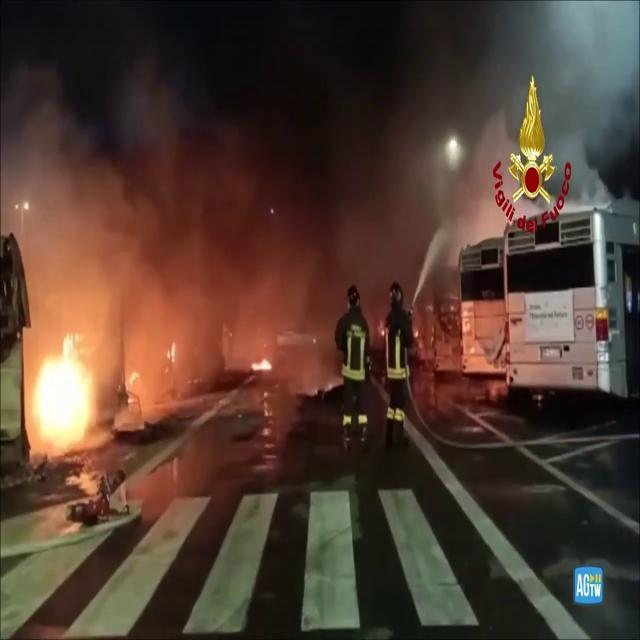Fire: (26, 325, 104, 453)
Smoke: (1, 11, 422, 340)
